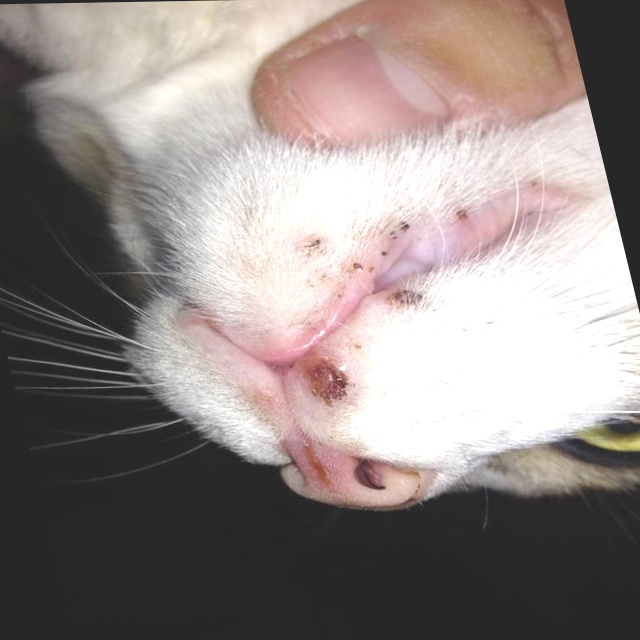acne: (383, 289, 428, 311), (294, 229, 328, 256)
